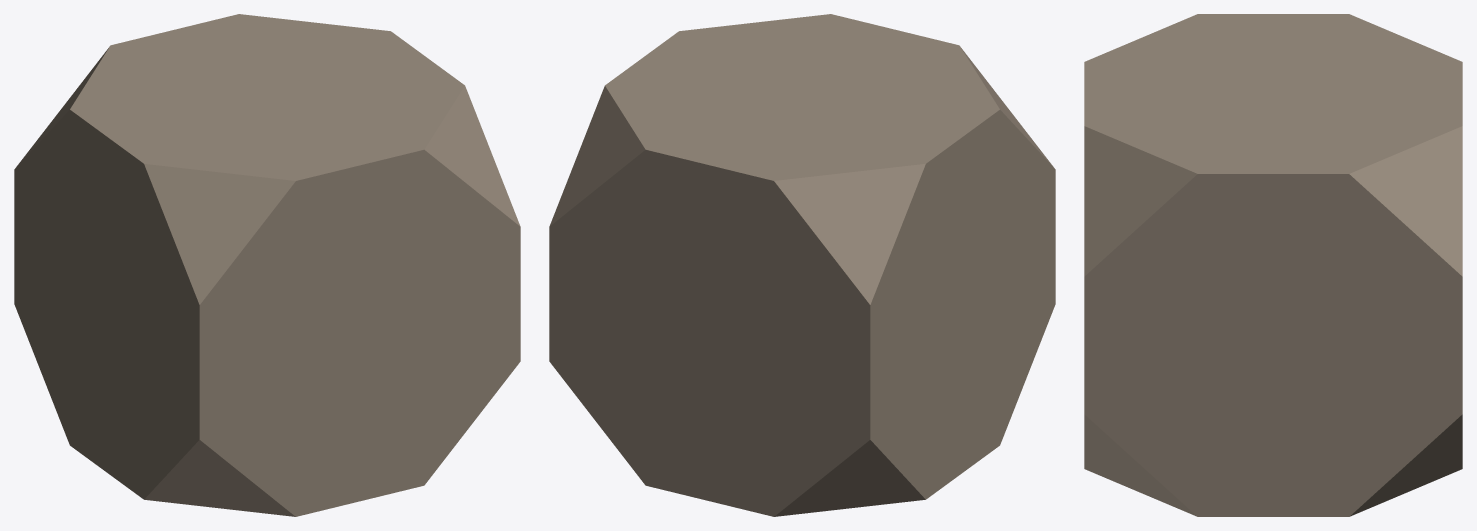
Rendered from fuel-tank.glb.
3 views of the same model, side by side, from view 1: azimuth 30°, elevation 25°; view 2: azimuth 150°, elevation 25°; view 3: azimuth 270°, elevation 25° (orthographic). The views are drawn at different scales.
Parts seen in each view (by area): view 1: fuel-tank; view 2: fuel-tank; view 3: fuel-tank.
Boxes of the visible parts, <box> form: fuel-tank: <box>14,14,520,516</box>; fuel-tank: <box>549,14,1055,516</box>; fuel-tank: <box>1084,14,1462,516</box>.
Size of the model in its own units: 1 by 1 by 1.
